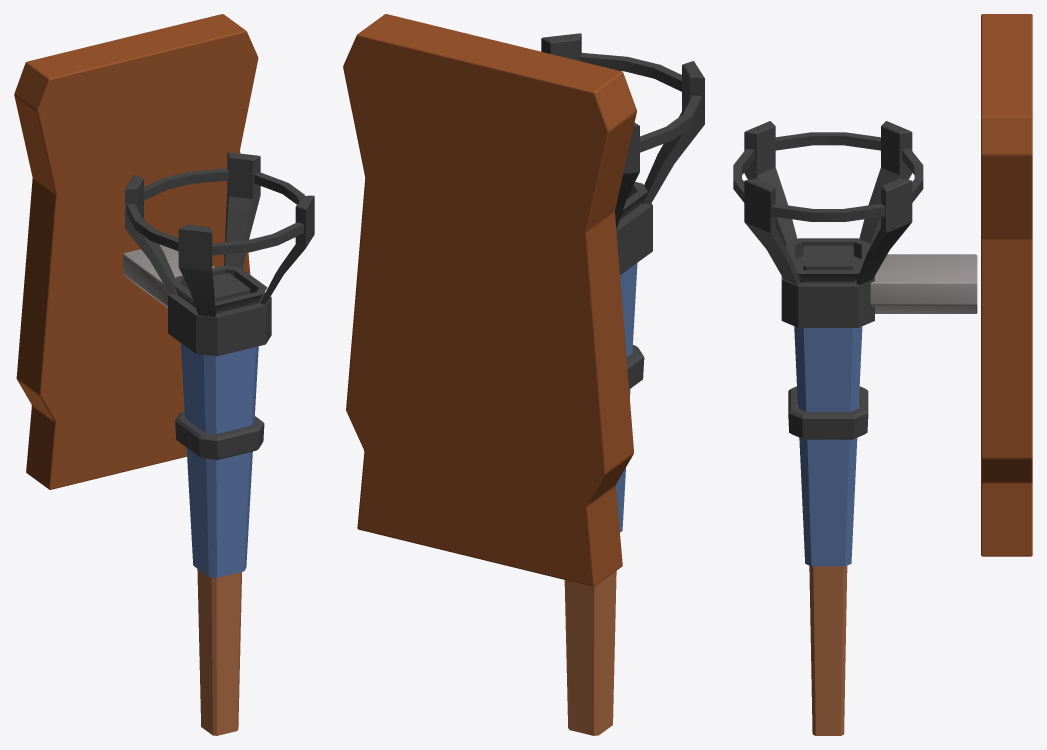
File: Torch.fbx
The picture shows the model from 3 angles, left to right: view 1: azimuth 30°, elevation 25°; view 2: azimuth 150°, elevation 25°; view 3: azimuth 270°, elevation 25°; orthographic projection. The views are drawn at different scales.
Parts seen in each view (by area): view 1: WallbaseTorch, Torch; view 2: WallbaseTorch, Torch; view 3: Torch, WallbaseTorch.
Part boxes in pixels (left/top/right/bottom): WallbaseTorch: left=14, top=14, right=258, bottom=489; Torch: left=125, top=152, right=314, bottom=735; WallbaseTorch: left=343, top=14, right=636, bottom=586; Torch: left=541, top=33, right=704, bottom=735; Torch: left=733, top=121, right=923, bottom=735; WallbaseTorch: left=870, top=14, right=1032, bottom=556.
Bounding box in the file's own units: 0.8577 × 2.3 × 0.9409.
